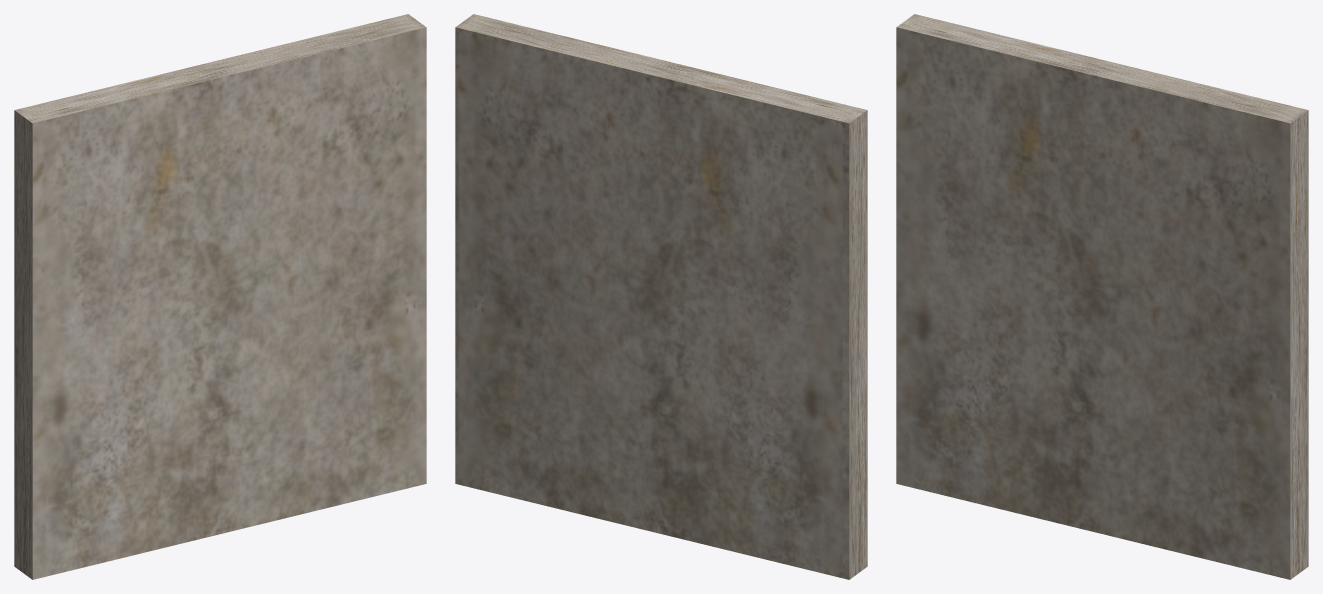
The model's file is WallEmpty1.fbx.
3 renders of one model, left to right at view 1: azimuth 30°, elevation 25°; view 2: azimuth 150°, elevation 25°; view 3: azimuth 330°, elevation 25°, orthographic.
Visible parts, largest first — view 1: WallEmpty2.001; view 2: WallEmpty2.001; view 3: WallEmpty2.001.
Part boxes in pixels (box(x1,y1,x2,y2)): WallEmpty2.001: box(14, 14, 426, 579); WallEmpty2.001: box(455, 14, 867, 579); WallEmpty2.001: box(896, 14, 1308, 579).
Size of the model in its own units: 250 by 277 by 20.
